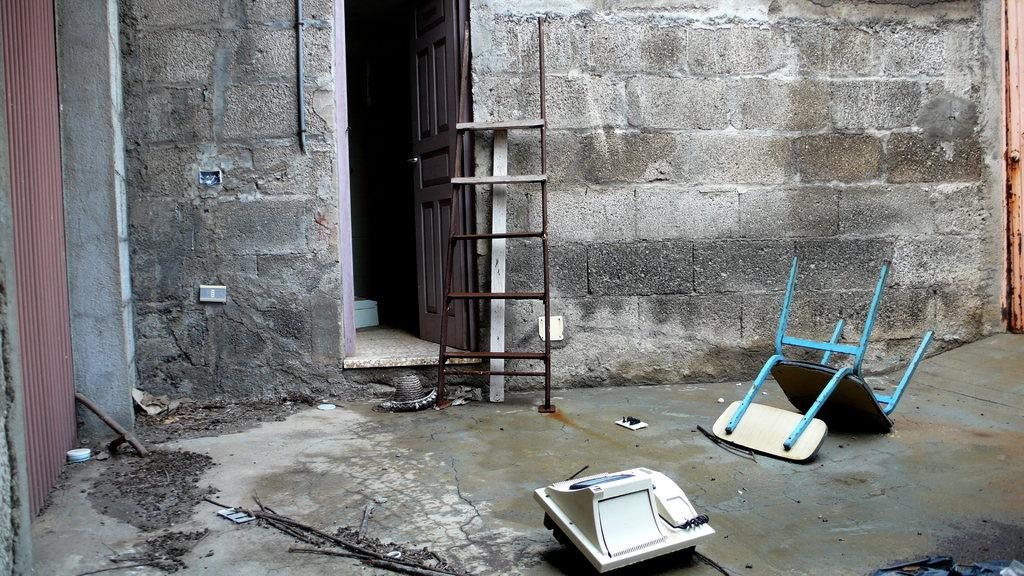Chair: (712, 257, 920, 463)
